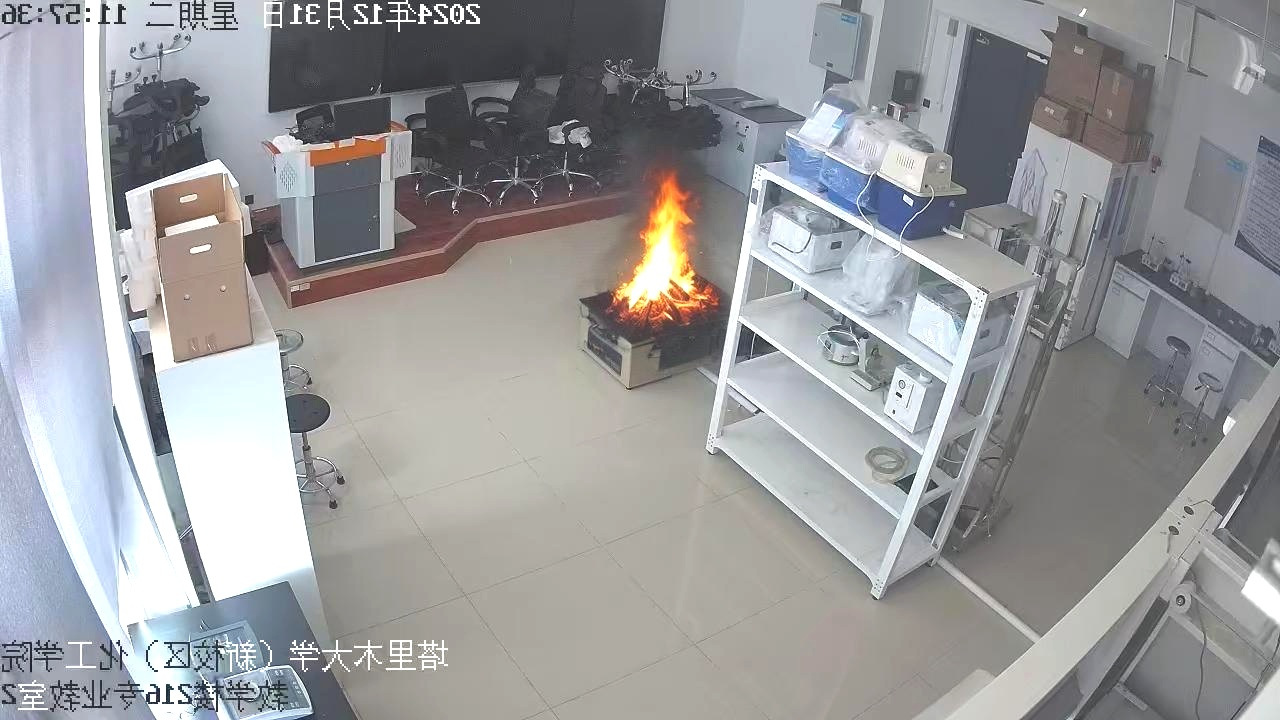fire: (563, 161, 732, 377)
